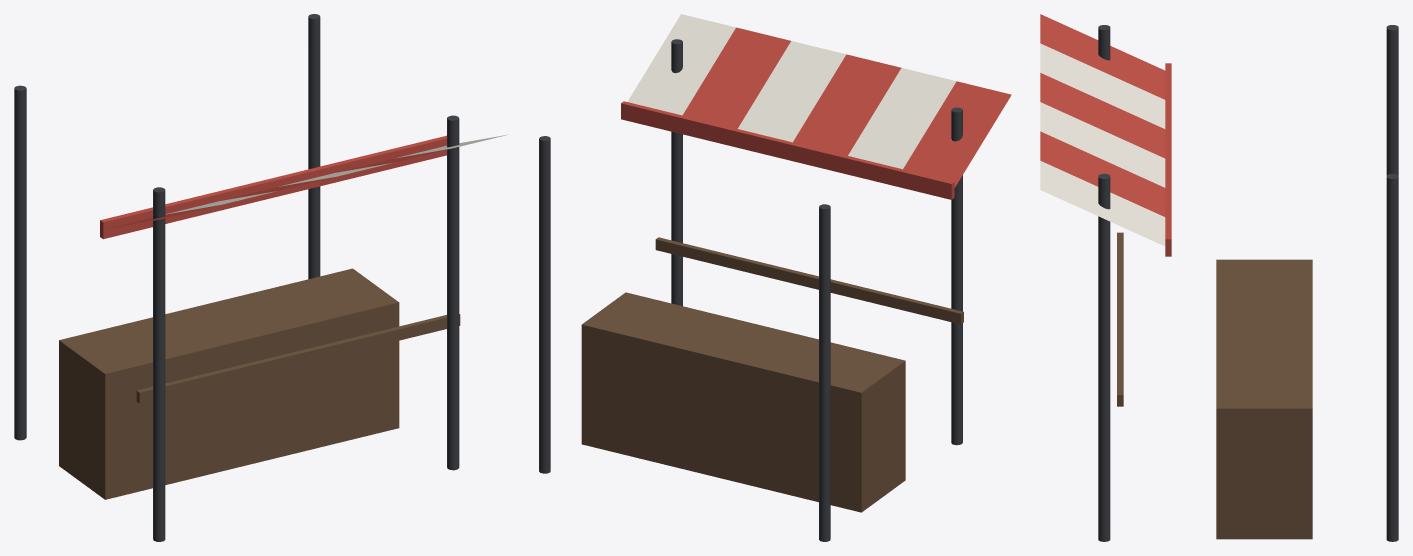
Rendered from prop_market_stall.glb.
The picture shows the model from 3 angles, left to right: view 1: azimuth 30°, elevation 25°; view 2: azimuth 150°, elevation 25°; view 3: azimuth 270°, elevation 25°; orthographic projection. The views are drawn at different scales.
Visible parts, largest first — view 1: market_stall.001; view 2: market_stall.001; view 3: market_stall.001.
Part boxes in pixels (<box>): market_stall.001: <box>14,14,507,541</box>; market_stall.001: <box>539,14,1011,541</box>; market_stall.001: <box>1040,14,1398,541</box>.
Size of the model in its own units: 2.6 by 2.5 by 2.24.
